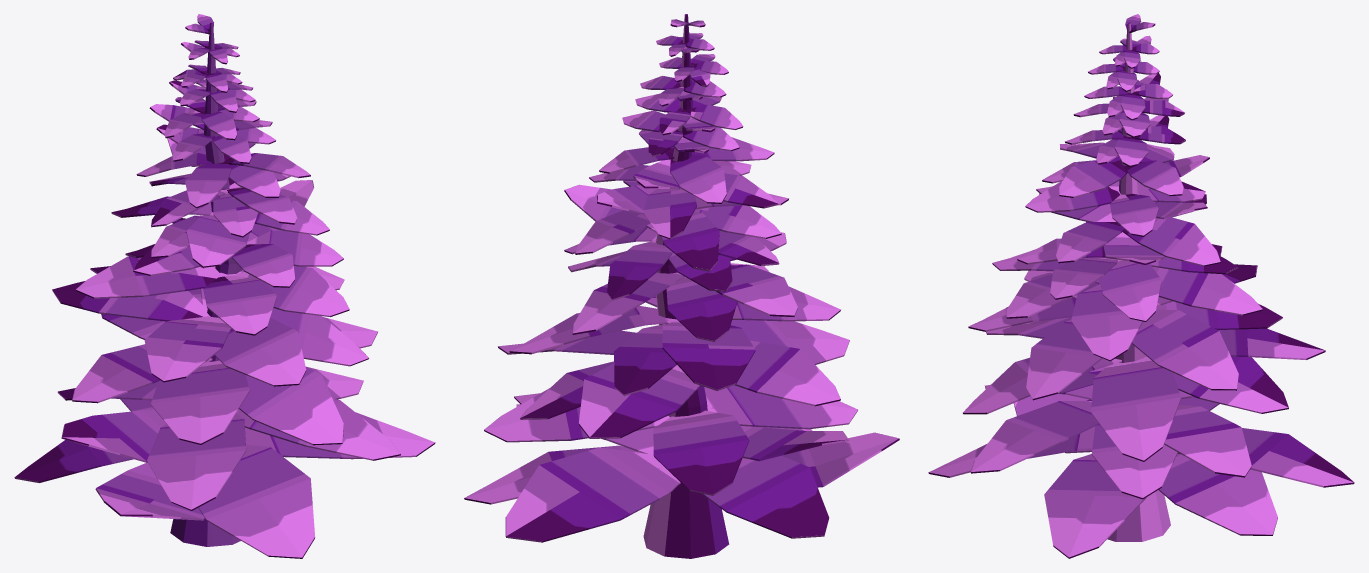
Rendered from arvore_roxa.fbx.
3 views of the same model, side by side, from view 1: azimuth 30°, elevation 25°; view 2: azimuth 150°, elevation 25°; view 3: azimuth 270°, elevation 25° (orthographic). The views are drawn at different scales.
Visible parts, largest first — view 1: Cylinder.004; view 2: Cylinder.004; view 3: Cylinder.004.
Part boxes in pixels (<box>): Cylinder.004: <box>14,14,435,558</box>; Cylinder.004: <box>464,14,899,558</box>; Cylinder.004: <box>928,14,1354,558</box>.
Size of the model in its own units: 696 by 938 by 722.
